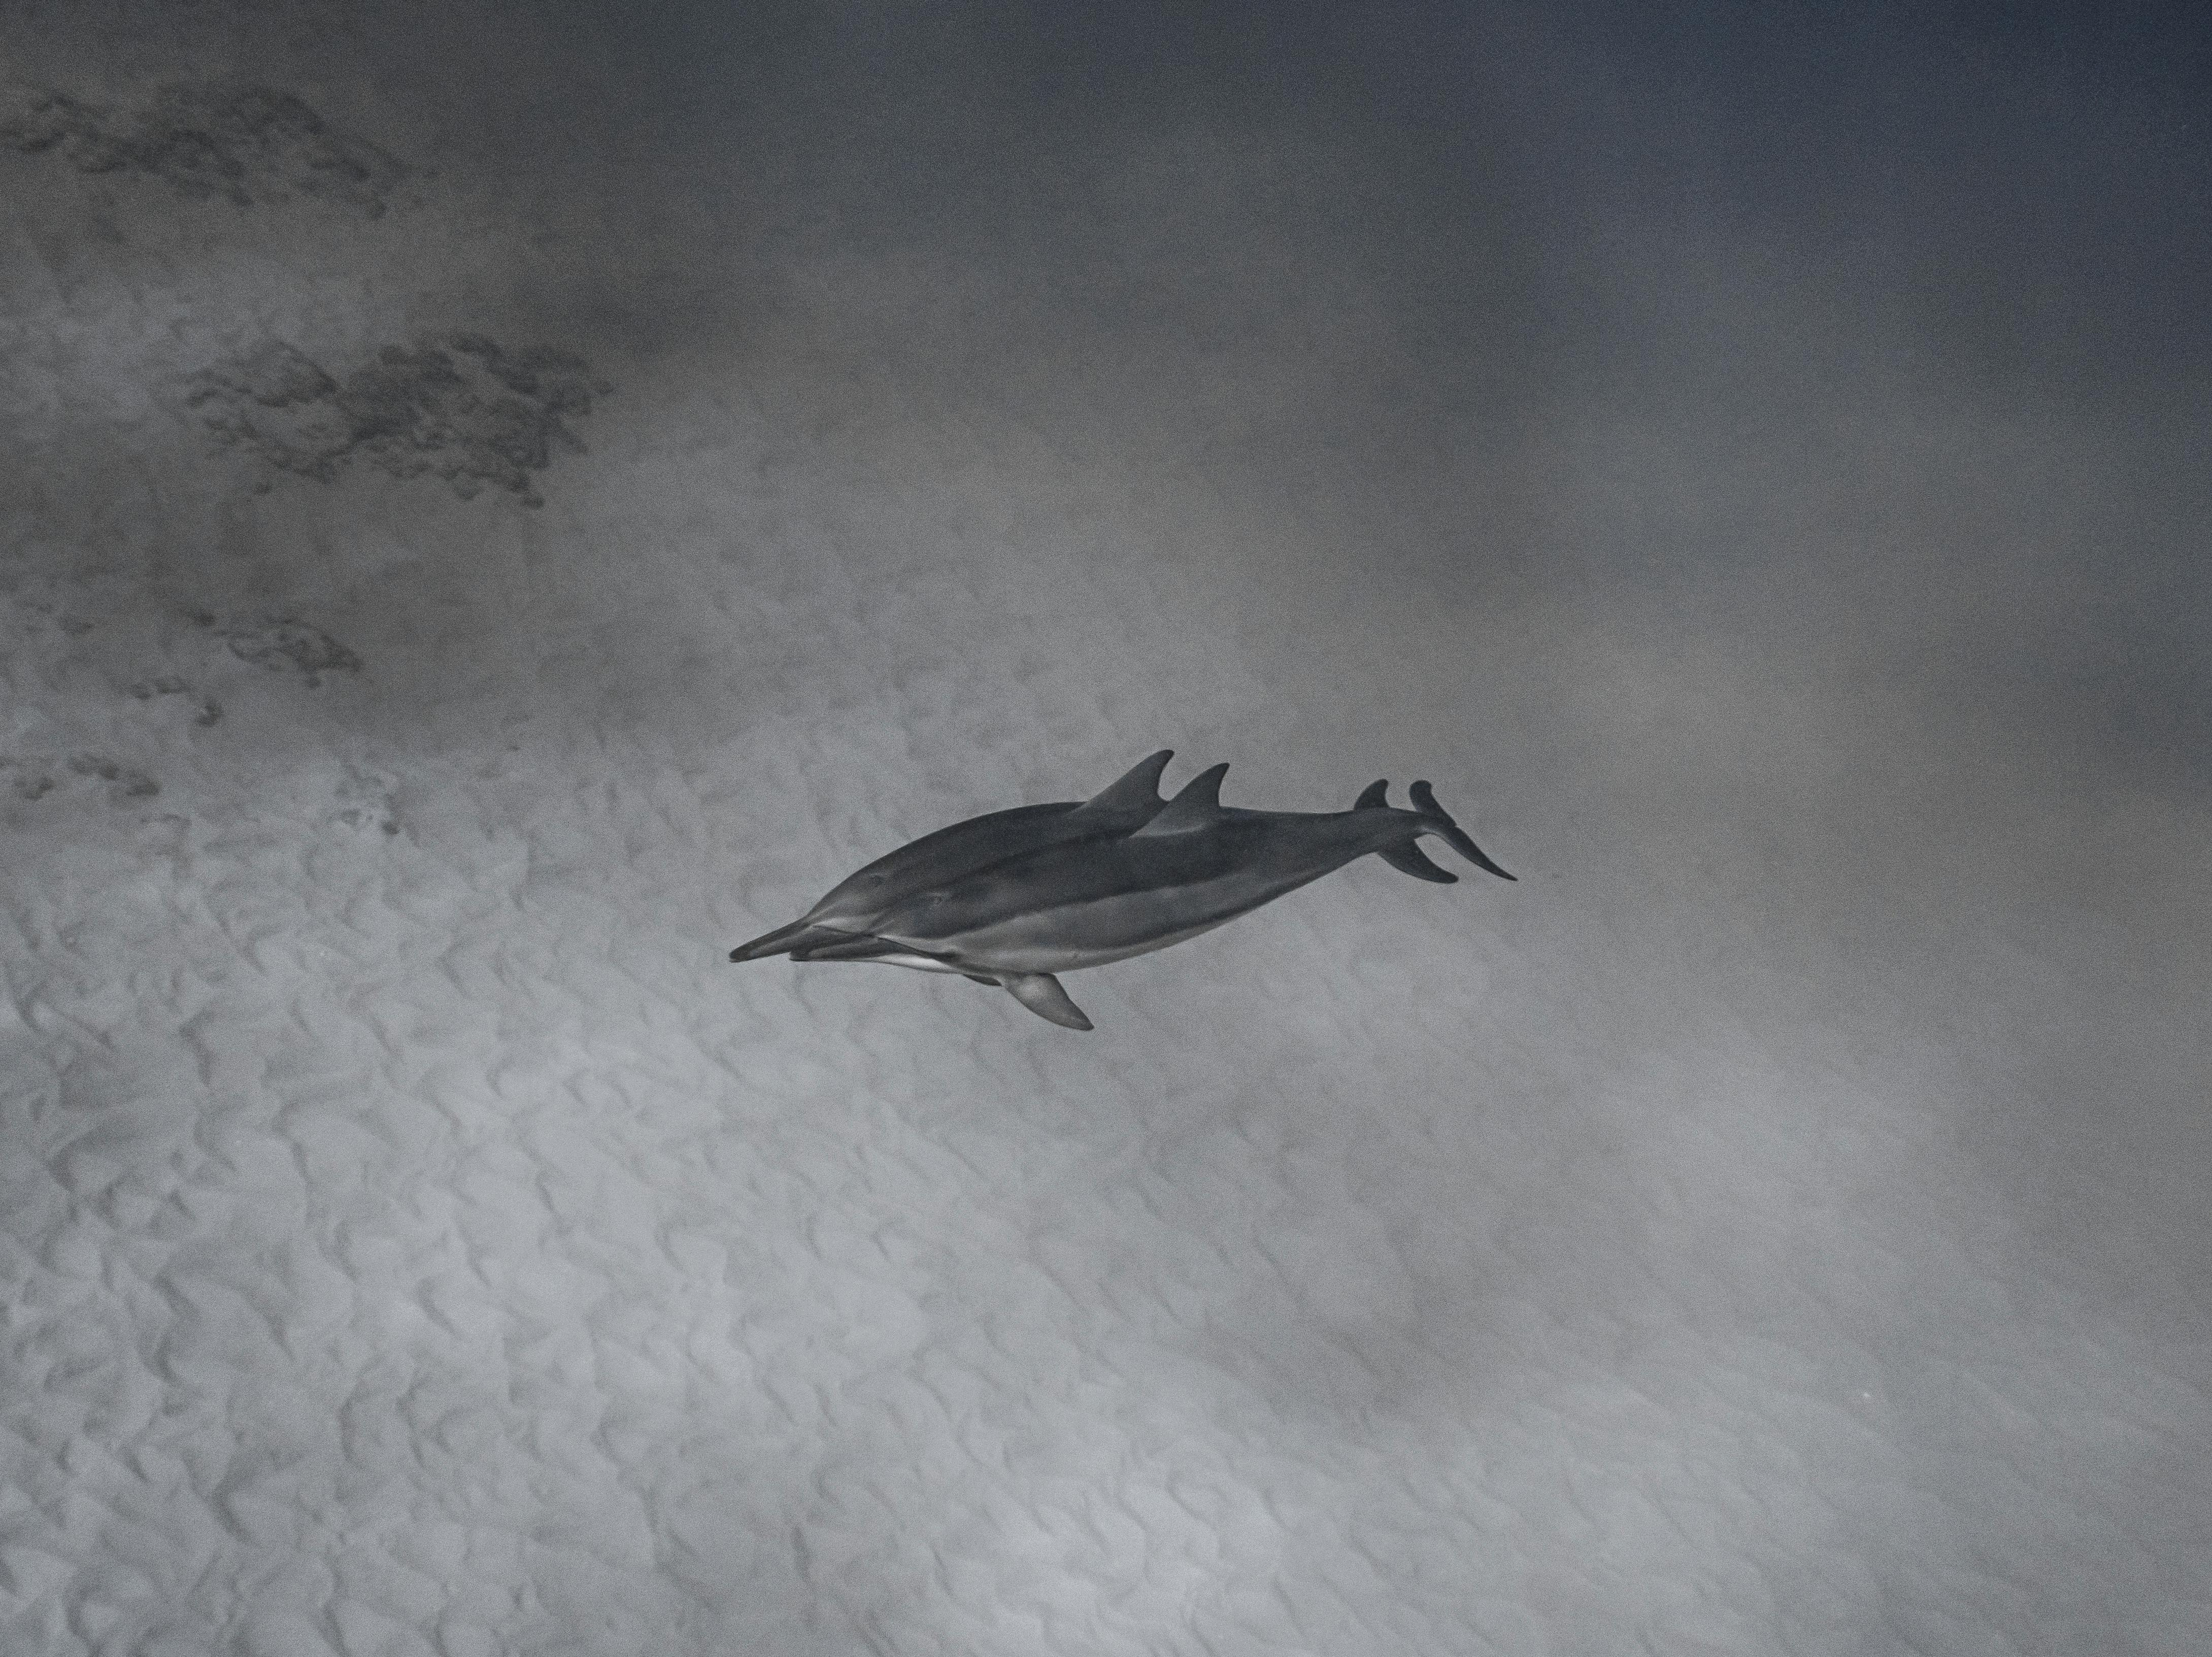dolphin: (804, 757, 1521, 1036), (724, 747, 1458, 992)
